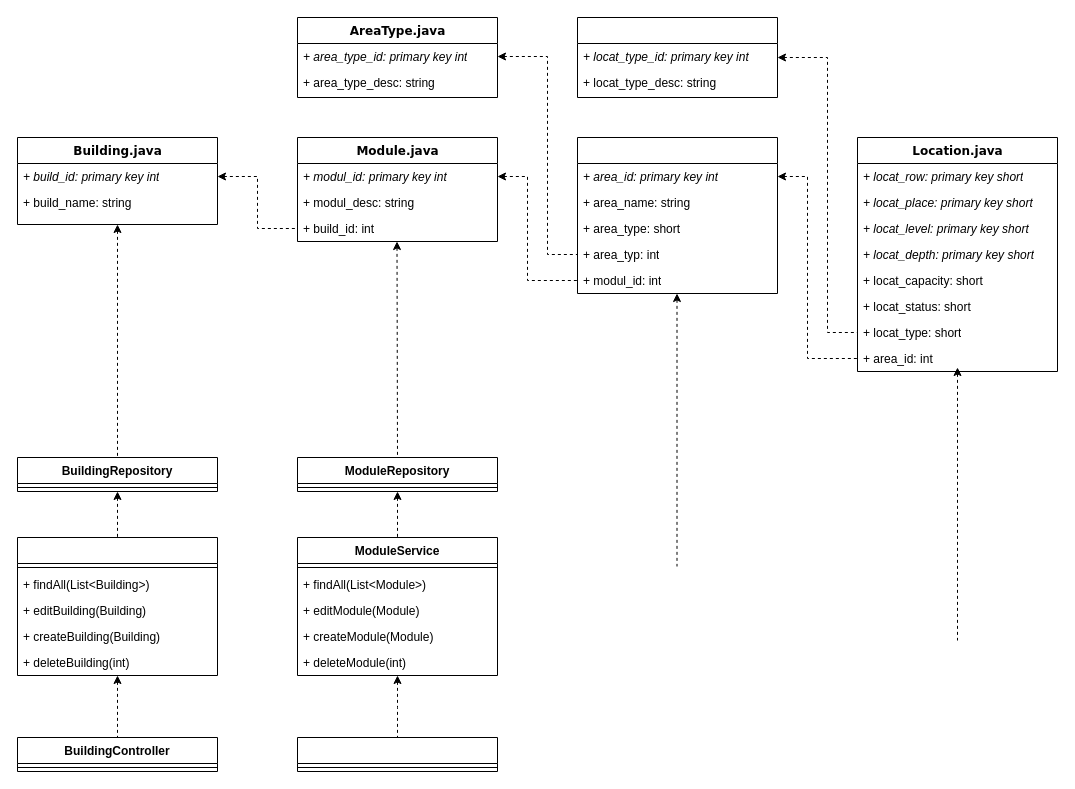
Image size: 1075x789. Some labels were removed from this diagram. The shapes that lost their labels are listed below. From the top down, each one's box as (x1, y1, x2, y2) in pixels, then its label:
(576, 16, 778, 98): LocationType.java
(576, 136, 778, 294): Area.java
(16, 536, 218, 676): BuildingService
(296, 736, 498, 772): ModuleController
